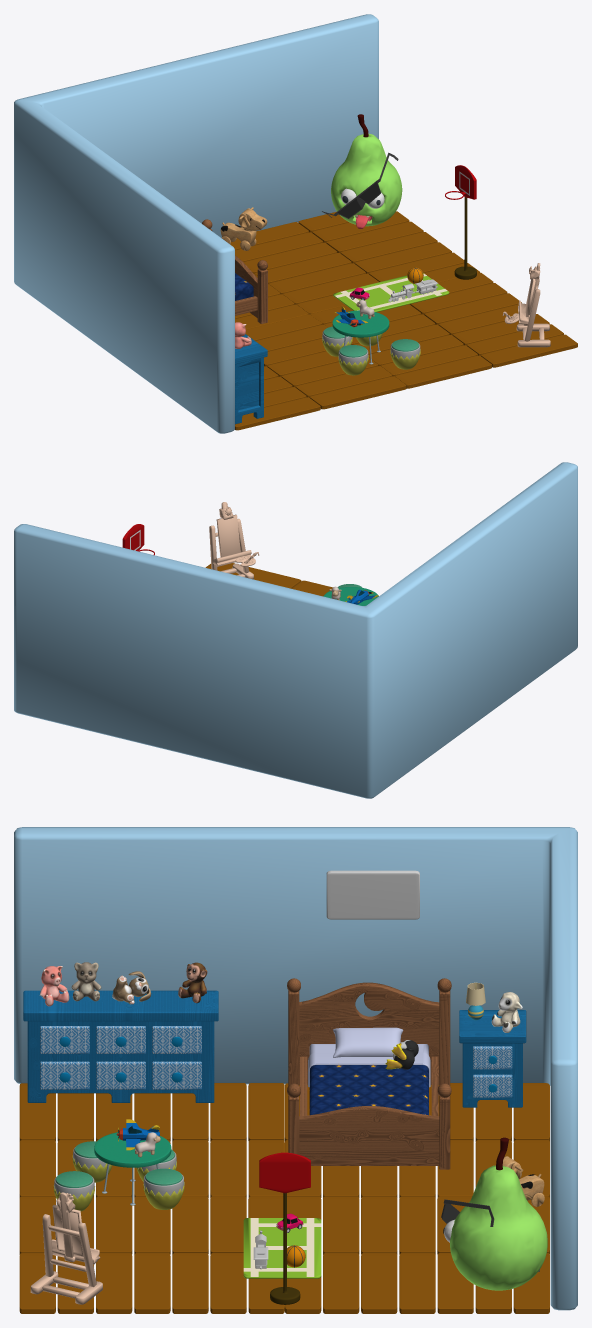
File: ChambreEnfant.fbx
3 views of the same model, one above another, from view 1: azimuth 30°, elevation 25°; view 2: azimuth 150°, elevation 25°; view 3: azimuth 270°, elevation 25° (orthographic). The views are drawn at different scales.
Parts seen in each view (by area): view 1: Murs, Sol, Poire, Commode, Lit, Tapis, Chevalet, PanierBasket, Chien, TableChaise, Chaise3, PoireLunettes (+2 smaller); view 2: Murs, Chevalet, Sol, PanierBasket; view 3: Murs, Sol, Lit, Commode, Poire, Tableau, Chevalet, TableChevet, Tapis, PanierBasket, TableChaise, Tiroir04 (+19 smaller).
Boxes of the visible parts, x1=… form: Murs: x1=14, y1=14, x2=378, y2=433; Sol: x1=230, y1=211, x2=577, y2=430; Poire: x1=331, y1=133, x2=402, y2=226; Commode: x1=235, y1=334, x2=267, y2=424; Lit: x1=202, y1=219, x2=267, y2=323; Tapis: x1=333, y1=273, x2=449, y2=312; Chevalet: x1=502, y1=263, x2=550, y2=347; PanierBasket: x1=445, y1=165, x2=476, y2=279; Chien: x1=220, y1=207, x2=267, y2=250; TableChaise: x1=332, y1=310, x2=389, y2=337; Chaise3: x1=390, y1=339, x2=420, y2=369; PoireLunettes: x1=322, y1=152, x2=398, y2=218; Murs: x1=14, y1=462, x2=577, y2=798; Chevalet: x1=209, y1=502, x2=259, y2=579; Sol: x1=205, y1=563, x2=332, y2=596; PanierBasket: x1=122, y1=524, x2=154, y2=555; Murs: x1=14, y1=827, x2=577, y2=1310; Sol: x1=19, y1=1083, x2=549, y2=1313; Lit: x1=287, y1=978, x2=451, y2=1169; Commode: x1=23, y1=990, x2=218, y2=1102; Poire: x1=450, y1=1165, x2=547, y2=1290; Tableau: x1=326, y1=870, x2=419, y2=919; Chevalet: x1=30, y1=1192, x2=102, y2=1304; TableChevet: x1=459, y1=1010, x2=526, y2=1107; Tapis: x1=243, y1=1218, x2=321, y2=1278; PanierBasket: x1=259, y1=1152, x2=310, y2=1304; TableChaise: x1=94, y1=1132, x2=171, y2=1167; Tiroir04: x1=40, y1=1061, x2=89, y2=1089.
Bounding box in the file's own units: 559 × 275 × 559.
